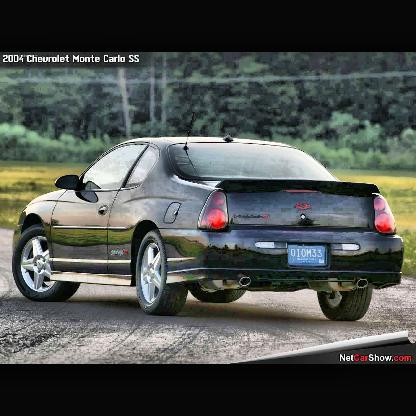Chevrolet Monte Carlo Coupe 2007: (14, 111, 404, 322)
